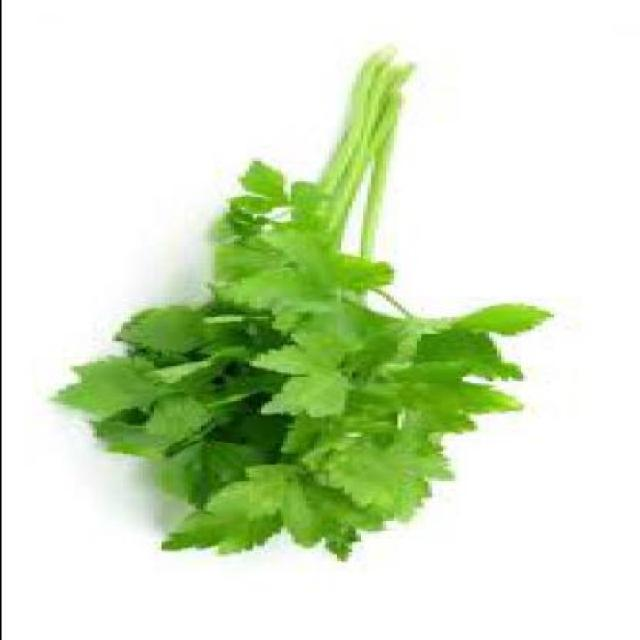BIODEGRADABLE: (53, 54, 561, 563), (315, 442, 423, 509), (54, 360, 175, 415), (164, 505, 285, 557), (202, 464, 304, 524), (117, 308, 220, 354), (259, 379, 358, 419)
